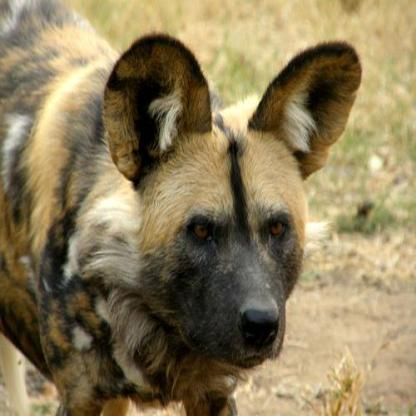African_hunting_dog: (0, 0, 362, 414)
